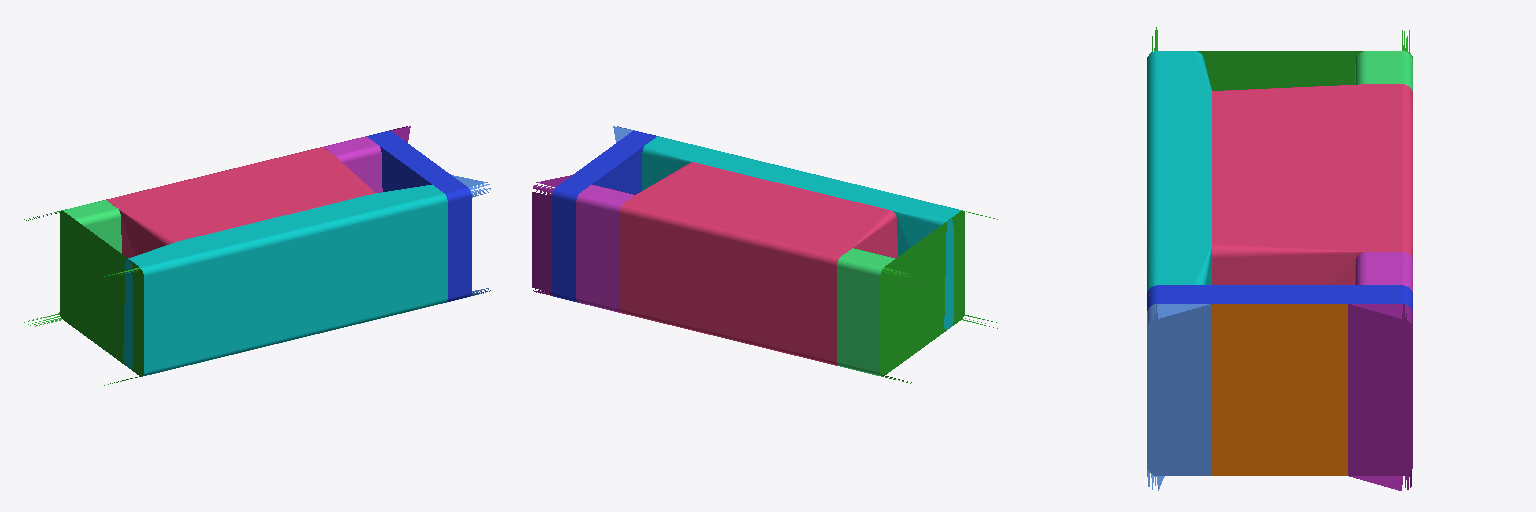
The robot description file, URDF, robot "beam_3x_6_matchedmass_coacd":
<?xml version="1.0"?>
<robot name="beam_3x_6_matchedmass_coacd">
  <material name="color_0"><color rgba="0.9 0.2 0.2 1.0"/></material>
  <material name="color_1"><color rgba="0.2 0.7 0.2 1.0"/></material>
  <material name="color_2"><color rgba="0.2 0.3 0.9 1.0"/></material>
  <material name="color_3"><color rgba="0.9 0.7 0.1 1.0"/></material>
  <material name="color_4"><color rgba="0.8 0.3 0.8 1.0"/></material>
  <material name="color_5"><color rgba="0.1 0.8 0.8 1.0"/></material>
  <material name="color_6"><color rgba="0.9 0.5 0.1 1.0"/></material>
  <material name="color_7"><color rgba="0.5 0.5 0.5 1.0"/></material>
  <material name="color_8"><color rgba="0.6 0.2 0.6 1.0"/></material>
  <material name="color_9"><color rgba="0.3 0.9 0.5 1.0"/></material>
  <material name="color_10"><color rgba="0.9 0.3 0.5 1.0"/></material>
  <material name="color_11"><color rgba="0.4 0.6 0.9 1.0"/></material>
  <material name="color_12"><color rgba="0.7 0.9 0.2 1.0"/></material>
  <material name="color_13"><color rgba="0.9 0.4 0.7 1.0"/></material>
  <link name="base_link">
    <inertial>
      <!-- PLACEHOLDER — part 6 is always a fixture so mass is dynamically irrelevant. ρ≈320 -->
      <mass value="0.082500"/>
      <origin xyz="-0.000006 0.000000 -0.000092" rpy="0 0 0"/>
      <inertia ixx="3.142538e-05" ixy="5.776515e-11" ixz="5.489874e-10" iyy="1.506141e-04" iyz="-3.673673e-13" izz="1.622453e-04"/>
    </inertial>
  </link>
  <link name="hull_0">
    <visual>
      <origin xyz="0 0 0" rpy="0 0 0"/>
      <geometry>
        <mesh filename="decomp_0.obj" scale="1 1 1"/>
      </geometry>
      <material name="color_0"/>
    </visual>
    <collision>
      <origin xyz="0 0 0" rpy="0 0 0"/>
      <geometry>
        <mesh filename="decomp_0.obj" scale="1 1 1"/>
      </geometry>
    </collision>
    <inertial>
      <mass value="0.001"/>
      <inertia ixx="1e-6" ixy="0" ixz="0" iyy="1e-6" iyz="0" izz="1e-6"/>
    </inertial>
  </link>
  <joint name="hull_joint_0" type="fixed">
    <parent link="base_link"/>
    <child link="hull_0"/>
    <origin xyz="0 0 0" rpy="0 0 0"/>
  </joint>
  <link name="hull_1">
    <visual>
      <origin xyz="0 0 0" rpy="0 0 0"/>
      <geometry>
        <mesh filename="decomp_1.obj" scale="1 1 1"/>
      </geometry>
      <material name="color_1"/>
    </visual>
    <collision>
      <origin xyz="0 0 0" rpy="0 0 0"/>
      <geometry>
        <mesh filename="decomp_1.obj" scale="1 1 1"/>
      </geometry>
    </collision>
    <inertial>
      <mass value="0.001"/>
      <inertia ixx="1e-6" ixy="0" ixz="0" iyy="1e-6" iyz="0" izz="1e-6"/>
    </inertial>
  </link>
  <joint name="hull_joint_1" type="fixed">
    <parent link="base_link"/>
    <child link="hull_1"/>
    <origin xyz="0 0 0" rpy="0 0 0"/>
  </joint>
  <link name="hull_2">
    <visual>
      <origin xyz="0 0 0" rpy="0 0 0"/>
      <geometry>
        <mesh filename="decomp_2.obj" scale="1 1 1"/>
      </geometry>
      <material name="color_2"/>
    </visual>
    <collision>
      <origin xyz="0 0 0" rpy="0 0 0"/>
      <geometry>
        <mesh filename="decomp_2.obj" scale="1 1 1"/>
      </geometry>
    </collision>
    <inertial>
      <mass value="0.001"/>
      <inertia ixx="1e-6" ixy="0" ixz="0" iyy="1e-6" iyz="0" izz="1e-6"/>
    </inertial>
  </link>
  <joint name="hull_joint_2" type="fixed">
    <parent link="base_link"/>
    <child link="hull_2"/>
    <origin xyz="0 0 0" rpy="0 0 0"/>
  </joint>
  <link name="hull_3">
    <visual>
      <origin xyz="0 0 0" rpy="0 0 0"/>
      <geometry>
        <mesh filename="decomp_3.obj" scale="1 1 1"/>
      </geometry>
      <material name="color_3"/>
    </visual>
    <collision>
      <origin xyz="0 0 0" rpy="0 0 0"/>
      <geometry>
        <mesh filename="decomp_3.obj" scale="1 1 1"/>
      </geometry>
    </collision>
    <inertial>
      <mass value="0.001"/>
      <inertia ixx="1e-6" ixy="0" ixz="0" iyy="1e-6" iyz="0" izz="1e-6"/>
    </inertial>
  </link>
  <joint name="hull_joint_3" type="fixed">
    <parent link="base_link"/>
    <child link="hull_3"/>
    <origin xyz="0 0 0" rpy="0 0 0"/>
  </joint>
  <link name="hull_4">
    <visual>
      <origin xyz="0 0 0" rpy="0 0 0"/>
      <geometry>
        <mesh filename="decomp_4.obj" scale="1 1 1"/>
      </geometry>
      <material name="color_4"/>
    </visual>
    <collision>
      <origin xyz="0 0 0" rpy="0 0 0"/>
      <geometry>
        <mesh filename="decomp_4.obj" scale="1 1 1"/>
      </geometry>
    </collision>
    <inertial>
      <mass value="0.001"/>
      <inertia ixx="1e-6" ixy="0" ixz="0" iyy="1e-6" iyz="0" izz="1e-6"/>
    </inertial>
  </link>
  <joint name="hull_joint_4" type="fixed">
    <parent link="base_link"/>
    <child link="hull_4"/>
    <origin xyz="0 0 0" rpy="0 0 0"/>
  </joint>
  <link name="hull_5">
    <visual>
      <origin xyz="0 0 0" rpy="0 0 0"/>
      <geometry>
        <mesh filename="decomp_5.obj" scale="1 1 1"/>
      </geometry>
      <material name="color_5"/>
    </visual>
    <collision>
      <origin xyz="0 0 0" rpy="0 0 0"/>
      <geometry>
        <mesh filename="decomp_5.obj" scale="1 1 1"/>
      </geometry>
    </collision>
    <inertial>
      <mass value="0.001"/>
      <inertia ixx="1e-6" ixy="0" ixz="0" iyy="1e-6" iyz="0" izz="1e-6"/>
    </inertial>
  </link>
  <joint name="hull_joint_5" type="fixed">
    <parent link="base_link"/>
    <child link="hull_5"/>
    <origin xyz="0 0 0" rpy="0 0 0"/>
  </joint>
  <link name="hull_6">
    <visual>
      <origin xyz="0 0 0" rpy="0 0 0"/>
      <geometry>
        <mesh filename="decomp_6.obj" scale="1 1 1"/>
      </geometry>
      <material name="color_6"/>
    </visual>
    <collision>
      <origin xyz="0 0 0" rpy="0 0 0"/>
      <geometry>
        <mesh filename="decomp_6.obj" scale="1 1 1"/>
      </geometry>
    </collision>
    <inertial>
      <mass value="0.001"/>
      <inertia ixx="1e-6" ixy="0" ixz="0" iyy="1e-6" iyz="0" izz="1e-6"/>
    </inertial>
  </link>
  <joint name="hull_joint_6" type="fixed">
    <parent link="base_link"/>
    <child link="hull_6"/>
    <origin xyz="0 0 0" rpy="0 0 0"/>
  </joint>
  <link name="hull_7">
    <visual>
      <origin xyz="0 0 0" rpy="0 0 0"/>
      <geometry>
        <mesh filename="decomp_7.obj" scale="1 1 1"/>
      </geometry>
      <material name="color_7"/>
    </visual>
    <collision>
      <origin xyz="0 0 0" rpy="0 0 0"/>
      <geometry>
        <mesh filename="decomp_7.obj" scale="1 1 1"/>
      </geometry>
    </collision>
    <inertial>
      <mass value="0.001"/>
      <inertia ixx="1e-6" ixy="0" ixz="0" iyy="1e-6" iyz="0" izz="1e-6"/>
    </inertial>
  </link>
  <joint name="hull_joint_7" type="fixed">
    <parent link="base_link"/>
    <child link="hull_7"/>
    <origin xyz="0 0 0" rpy="0 0 0"/>
  </joint>
  <link name="hull_8">
    <visual>
      <origin xyz="0 0 0" rpy="0 0 0"/>
      <geometry>
        <mesh filename="decomp_8.obj" scale="1 1 1"/>
      </geometry>
      <material name="color_8"/>
    </visual>
    <collision>
      <origin xyz="0 0 0" rpy="0 0 0"/>
      <geometry>
        <mesh filename="decomp_8.obj" scale="1 1 1"/>
      </geometry>
    </collision>
    <inertial>
      <mass value="0.001"/>
      <inertia ixx="1e-6" ixy="0" ixz="0" iyy="1e-6" iyz="0" izz="1e-6"/>
    </inertial>
  </link>
  <joint name="hull_joint_8" type="fixed">
    <parent link="base_link"/>
    <child link="hull_8"/>
    <origin xyz="0 0 0" rpy="0 0 0"/>
  </joint>
  <link name="hull_9">
    <visual>
      <origin xyz="0 0 0" rpy="0 0 0"/>
      <geometry>
        <mesh filename="decomp_9.obj" scale="1 1 1"/>
      </geometry>
      <material name="color_9"/>
    </visual>
    <collision>
      <origin xyz="0 0 0" rpy="0 0 0"/>
      <geometry>
        <mesh filename="decomp_9.obj" scale="1 1 1"/>
      </geometry>
    </collision>
    <inertial>
      <mass value="0.001"/>
      <inertia ixx="1e-6" ixy="0" ixz="0" iyy="1e-6" iyz="0" izz="1e-6"/>
    </inertial>
  </link>
  <joint name="hull_joint_9" type="fixed">
    <parent link="base_link"/>
    <child link="hull_9"/>
    <origin xyz="0 0 0" rpy="0 0 0"/>
  </joint>
  <link name="hull_10">
    <visual>
      <origin xyz="0 0 0" rpy="0 0 0"/>
      <geometry>
        <mesh filename="decomp_10.obj" scale="1 1 1"/>
      </geometry>
      <material name="color_10"/>
    </visual>
    <collision>
      <origin xyz="0 0 0" rpy="0 0 0"/>
      <geometry>
        <mesh filename="decomp_10.obj" scale="1 1 1"/>
      </geometry>
    </collision>
    <inertial>
      <mass value="0.001"/>
      <inertia ixx="1e-6" ixy="0" ixz="0" iyy="1e-6" iyz="0" izz="1e-6"/>
    </inertial>
  </link>
  <joint name="hull_joint_10" type="fixed">
    <parent link="base_link"/>
    <child link="hull_10"/>
    <origin xyz="0 0 0" rpy="0 0 0"/>
  </joint>
  <link name="hull_11">
    <visual>
      <origin xyz="0 0 0" rpy="0 0 0"/>
      <geometry>
        <mesh filename="decomp_11.obj" scale="1 1 1"/>
      </geometry>
      <material name="color_11"/>
    </visual>
    <collision>
      <origin xyz="0 0 0" rpy="0 0 0"/>
      <geometry>
        <mesh filename="decomp_11.obj" scale="1 1 1"/>
      </geometry>
    </collision>
    <inertial>
      <mass value="0.001"/>
      <inertia ixx="1e-6" ixy="0" ixz="0" iyy="1e-6" iyz="0" izz="1e-6"/>
    </inertial>
  </link>
  <joint name="hull_joint_11" type="fixed">
    <parent link="base_link"/>
    <child link="hull_11"/>
    <origin xyz="0 0 0" rpy="0 0 0"/>
  </joint>
  <link name="hull_12">
    <visual>
      <origin xyz="0 0 0" rpy="0 0 0"/>
      <geometry>
        <mesh filename="decomp_12.obj" scale="1 1 1"/>
      </geometry>
      <material name="color_12"/>
    </visual>
    <collision>
      <origin xyz="0 0 0" rpy="0 0 0"/>
      <geometry>
        <mesh filename="decomp_12.obj" scale="1 1 1"/>
      </geometry>
    </collision>
    <inertial>
      <mass value="0.001"/>
      <inertia ixx="1e-6" ixy="0" ixz="0" iyy="1e-6" iyz="0" izz="1e-6"/>
    </inertial>
  </link>
  <joint name="hull_joint_12" type="fixed">
    <parent link="base_link"/>
    <child link="hull_12"/>
    <origin xyz="0 0 0" rpy="0 0 0"/>
  </joint>
  <link name="hull_13">
    <visual>
      <origin xyz="0 0 0" rpy="0 0 0"/>
      <geometry>
        <mesh filename="decomp_13.obj" scale="1 1 1"/>
      </geometry>
      <material name="color_13"/>
    </visual>
    <collision>
      <origin xyz="0 0 0" rpy="0 0 0"/>
      <geometry>
        <mesh filename="decomp_13.obj" scale="1 1 1"/>
      </geometry>
    </collision>
    <inertial>
      <mass value="0.001"/>
      <inertia ixx="1e-6" ixy="0" ixz="0" iyy="1e-6" iyz="0" izz="1e-6"/>
    </inertial>
  </link>
  <joint name="hull_joint_13" type="fixed">
    <parent link="base_link"/>
    <child link="hull_13"/>
    <origin xyz="0 0 0" rpy="0 0 0"/>
  </joint>
</robot>

--- Render facts (derived) ---
3 views of the same robot in one strip: view 1: azimuth 30°, elevation 25°; view 2: azimuth 150°, elevation 25°; view 3: azimuth 270°, elevation 25° (orthographic).
Robot: beam_3x_6_matchedmass_coacd — 15 links, 14 joints (14 fixed); root link base_link; default pose: all joints at 0.
Visible links, largest first — view 1: hull_5, hull_10, hull_1, hull_2, hull_4, hull_9; view 2: hull_10, hull_1, hull_5, hull_2, hull_4, hull_9, hull_8; view 3: hull_10, hull_6, hull_5, hull_8, hull_11, hull_1, hull_2, hull_9, hull_4.
Boxes of the visible links, x1=… form: hull_5: x1=123, y1=185, x2=447, y2=376; hull_10: x1=106, y1=147, x2=374, y2=257; hull_1: x1=24, y1=210, x2=143, y2=385; hull_2: x1=367, y1=130, x2=471, y2=302; hull_4: x1=324, y1=136, x2=382, y2=192; hull_9: x1=62, y1=200, x2=121, y2=253; hull_10: x1=620, y1=162, x2=897, y2=365; hull_1: x1=880, y1=210, x2=997, y2=383; hull_5: x1=642, y1=136, x2=961, y2=329; hull_2: x1=552, y1=130, x2=656, y2=302; hull_4: x1=576, y1=185, x2=634, y2=312; hull_9: x1=837, y1=248, x2=894, y2=376; hull_8: x1=532, y1=175, x2=571, y2=296; hull_10: x1=1212, y1=84, x2=1412, y2=284; hull_6: x1=1212, y1=304, x2=1347, y2=475; hull_5: x1=1147, y1=51, x2=1211, y2=291; hull_8: x1=1348, y1=304, x2=1412, y2=490; hull_11: x1=1147, y1=304, x2=1211, y2=490; hull_1: x1=1151, y1=27, x2=1412, y2=90; hull_2: x1=1147, y1=285, x2=1412, y2=310; hull_9: x1=1355, y1=51, x2=1412, y2=90; hull_4: x1=1355, y1=252, x2=1412, y2=291.
Size in the robot's own frame: 0.1415 by 0.0533 by 0.0381 metres.
9 mesh visuals loaded from 14 distinct referenced files (9 OBJ); not drawn: 5 (reference not matched to a file when rendering).
